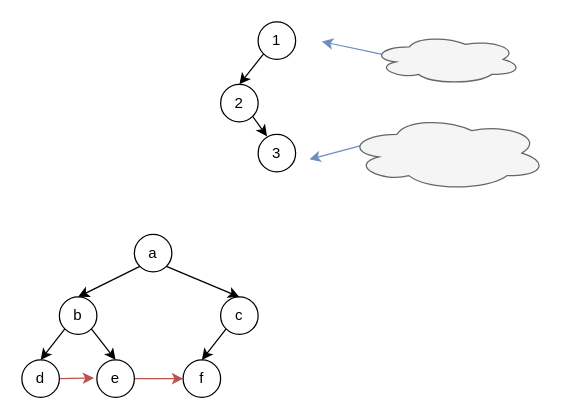
Image size: 569x420. Some labels were removed from this diagram. The shapes that lost their labels are listed below. From the top down, each one's box as (x1, y1, x2, y2) in pixels, then its label:
(371, 33, 522, 84): 最小深度不是1
(346, 114, 547, 191): 最小深度为3 因为3才是叶子节点
